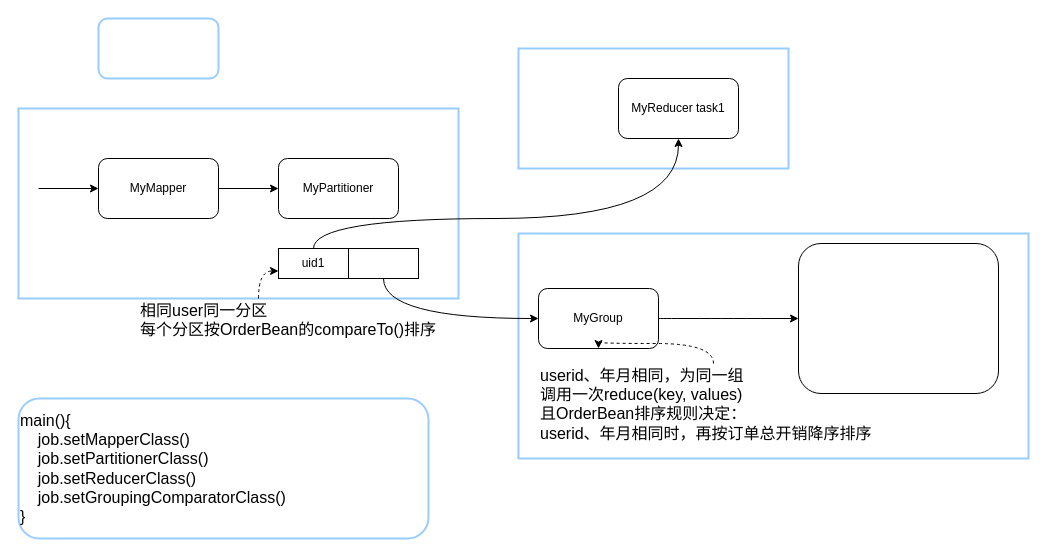
This 1046x556 diagram has some shape labels left out. Here are the shapes that lost their labels. From the top down, the centre of each, then its label:
point (158, 48): OrderBean
point (383, 263): uid2
point (898, 318): MyReducer task2 reduce(){ 获得前两笔开销最大的信息 }
